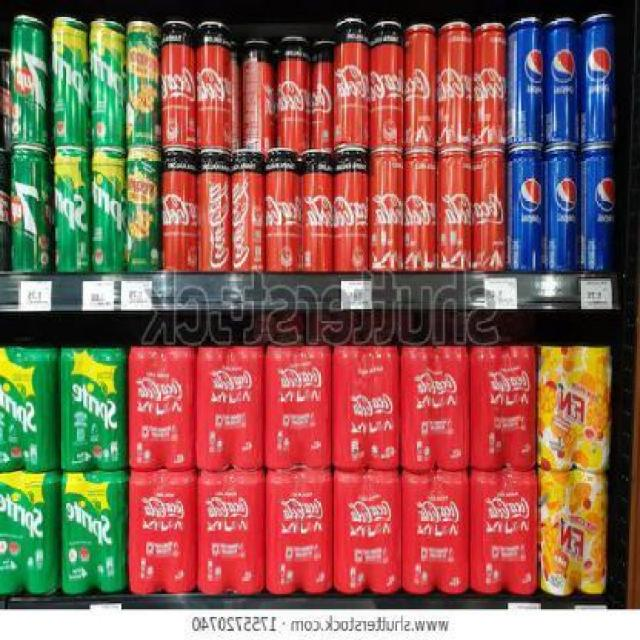Drinks: (197, 344, 265, 470), (129, 343, 196, 469), (198, 470, 265, 595), (59, 346, 126, 471), (332, 347, 400, 470), (401, 347, 468, 471), (265, 345, 332, 469), (471, 472, 538, 596), (333, 472, 401, 594), (60, 473, 128, 595), (266, 472, 334, 593), (129, 471, 197, 592), (402, 472, 469, 594), (472, 345, 536, 470), (1, 346, 59, 472), (2, 471, 60, 592), (12, 144, 52, 276), (579, 147, 618, 281), (88, 17, 127, 148), (578, 13, 616, 147), (12, 14, 51, 144), (158, 19, 196, 150), (88, 148, 127, 275), (53, 15, 90, 146), (508, 16, 544, 150), (543, 15, 579, 148), (473, 21, 509, 153), (196, 19, 232, 150), (437, 20, 472, 152), (543, 148, 579, 274), (508, 150, 543, 276), (403, 24, 437, 153), (336, 17, 370, 146), (299, 151, 335, 272), (369, 20, 403, 148), (54, 146, 88, 274), (335, 148, 370, 272), (471, 152, 507, 272), (240, 37, 277, 152), (265, 151, 300, 272), (437, 152, 472, 272), (370, 150, 404, 272), (230, 152, 264, 273), (198, 152, 232, 272), (163, 152, 197, 272), (403, 154, 437, 272), (278, 36, 310, 152), (309, 40, 334, 151)
